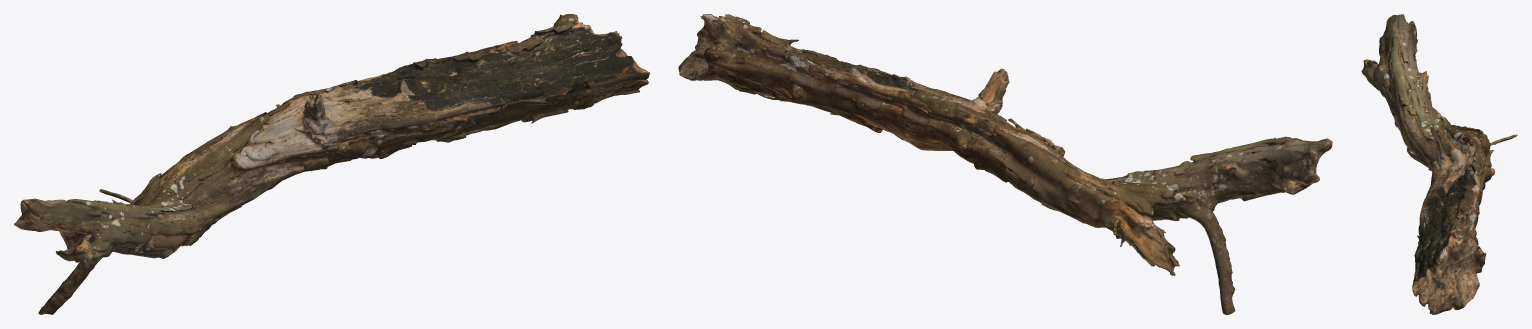
Rendered from dead_tree_trunk_02_lod0.glb.
3 views of the same model, side by side, from view 1: azimuth 30°, elevation 25°; view 2: azimuth 150°, elevation 25°; view 3: azimuth 270°, elevation 25° (orthographic). The views are drawn at different scales.
Visible parts, largest first — view 1: dead_tree_trunk_02; view 2: dead_tree_trunk_02; view 3: dead_tree_trunk_02.
Part boxes in pixels (x1,y1,x2,y2): dead_tree_trunk_02: [14, 14, 649, 314]; dead_tree_trunk_02: [678, 14, 1332, 314]; dead_tree_trunk_02: [1361, 14, 1517, 314].
Bounding box in the file's own units: 4.05 × 1.06 × 1.05.
1 material, 1 textured.
